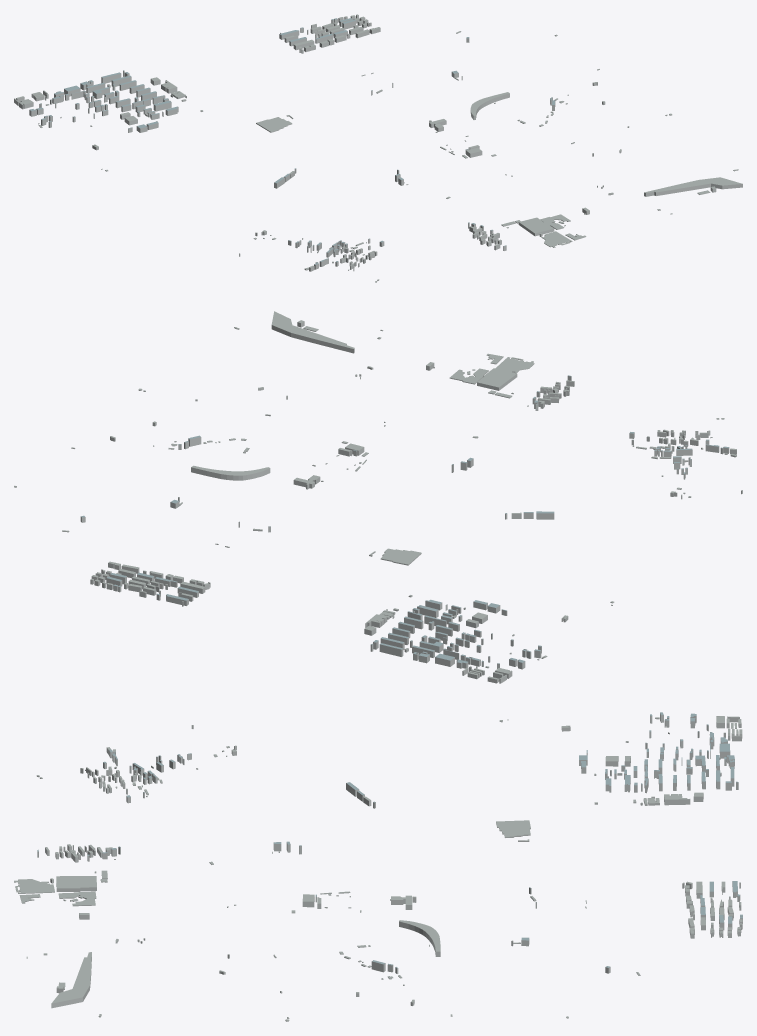
Rendered from far.glb.
The picture shows the model from 3 angles, top to bottom: view 1: azimuth 30°, elevation 25°; view 2: azimuth 150°, elevation 25°; view 3: azimuth 270°, elevation 25°; orthographic projection. The views are drawn at different scales.
Bounding box in the file's own units: 2100 × 27.1 × 2130.
